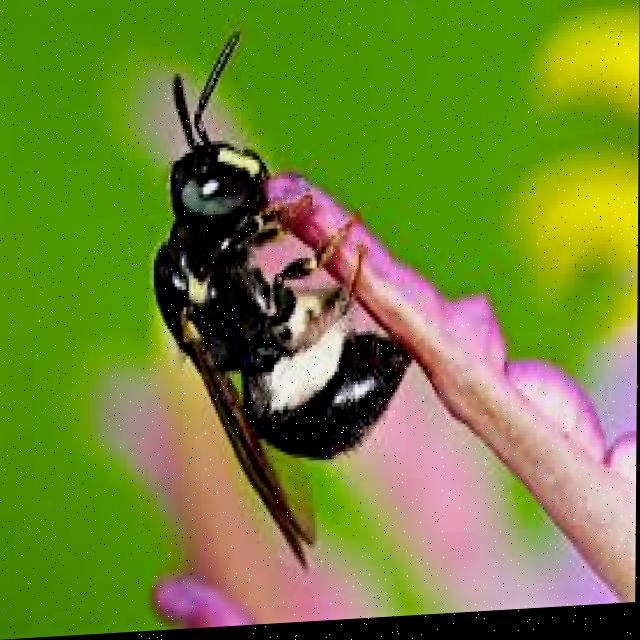Braunsapis: (150, 9, 432, 602)
